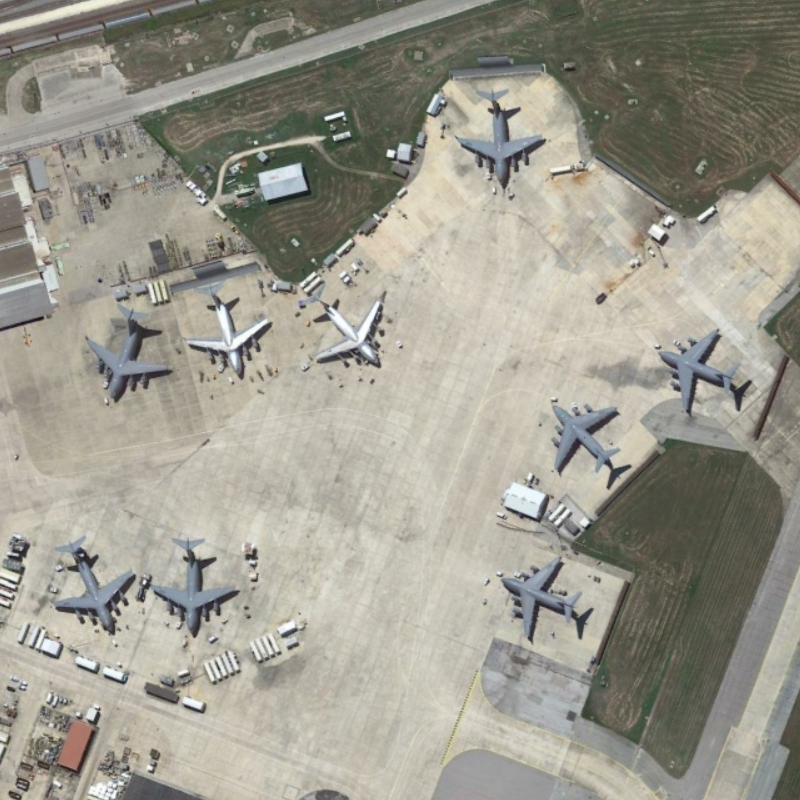A3: (76, 292, 176, 411), (178, 272, 282, 382), (144, 531, 243, 644), (451, 80, 549, 192), (292, 273, 397, 375), (46, 525, 140, 635), (648, 322, 745, 422), (493, 552, 595, 644), (535, 390, 632, 483)
